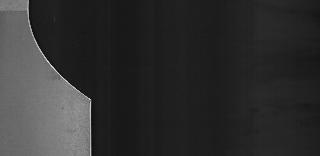welding line: (2, 5, 34, 17)
